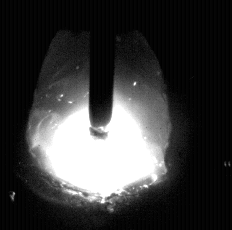arame: (89, 0, 114, 138)
poca: (25, 0, 171, 230)
